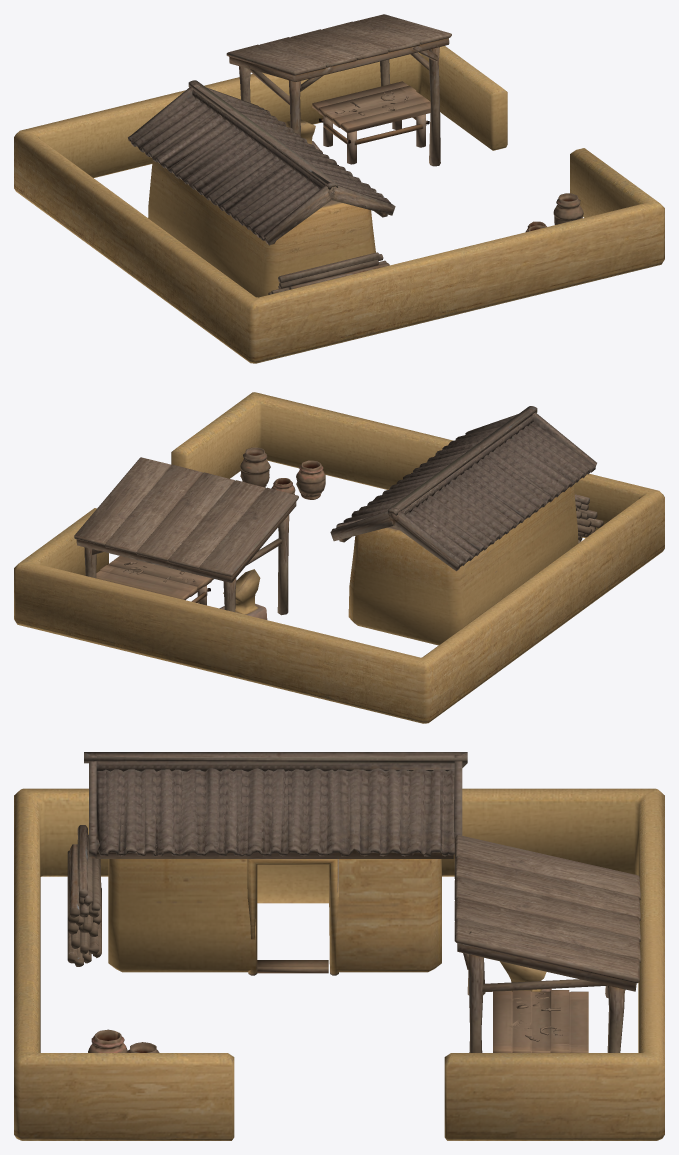
The model's file is workshop_polish.fbx.
3 renders of one model, top to bottom at view 1: azimuth 30°, elevation 25°; view 2: azimuth 150°, elevation 25°; view 3: azimuth 270°, elevation 25°, orthographic. The views are drawn at different scales.
Visible parts, largest first — view 1: tripo_node_00d9551f; view 2: tripo_node_00d9551f; view 3: tripo_node_00d9551f.
Part boxes in pixels (left/top/right/bottom): tripo_node_00d9551f: left=14, top=14, right=664, bottom=363; tripo_node_00d9551f: left=14, top=392, right=664, bottom=723; tripo_node_00d9551f: left=14, top=752, right=664, bottom=1140.
Size of the model in its own units: 0.998 by 0.334 by 0.998.
